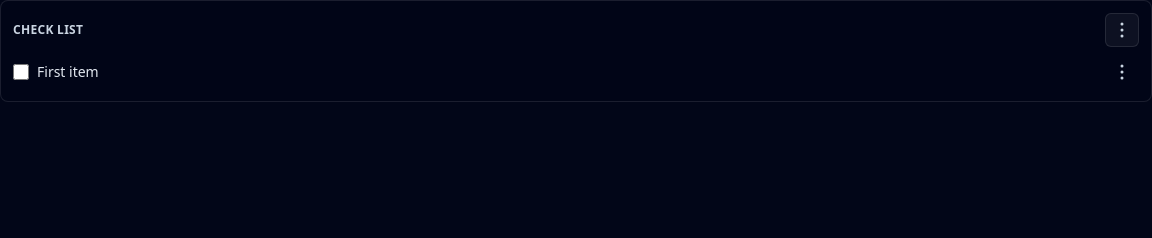
TodoChecklistSection › opens inline item editor from rename action
The image size is (1152, 238).
Click the button with test id "todo-checklist-item-actions-trigger-item-1": (1122,72) [1105,55,1139,89]
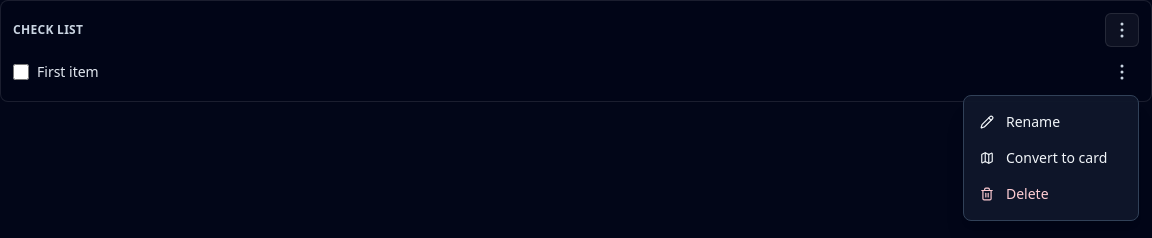
Click the menu item with test id "todo-checklist-item-rename-item-1": (1051,122) [964,104,1138,140]
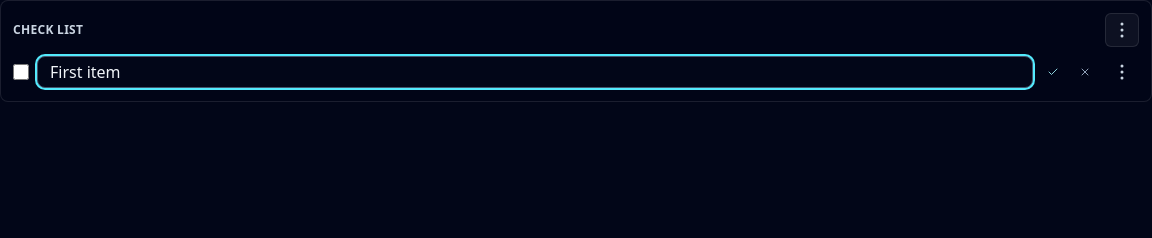
Result: the field with test id "todo-checklist-item-input-item-1" holds "First item" at [37,56,1033,88]
